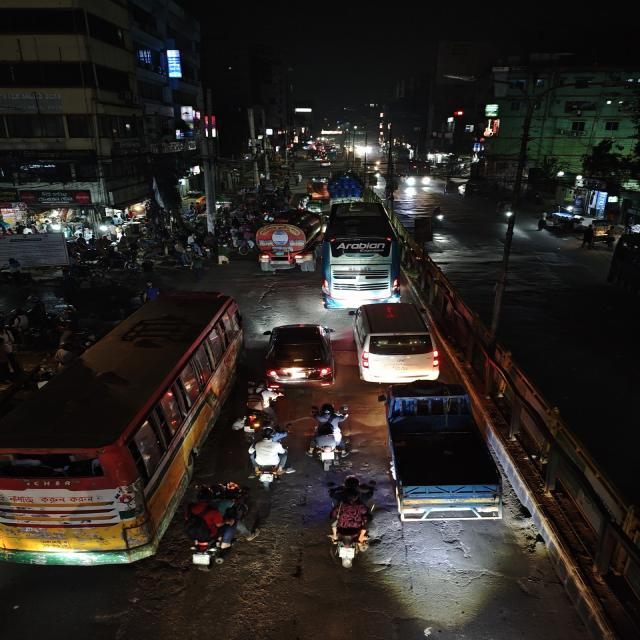bus: (0, 290, 243, 570), (320, 198, 402, 310), (603, 229, 640, 323), (401, 160, 433, 188)
car: (347, 300, 443, 387), (262, 320, 337, 390)
cng: (305, 174, 331, 200)
motorcycle: (180, 481, 249, 577), (322, 475, 377, 573), (306, 402, 351, 470), (245, 428, 290, 488), (234, 388, 274, 437), (250, 379, 282, 407), (429, 205, 448, 227)
pedestrian: (138, 256, 160, 282), (168, 242, 188, 270), (535, 209, 554, 236), (189, 254, 206, 281), (214, 245, 231, 267), (141, 281, 160, 299)
pickup_van: (383, 386, 507, 524)
truck: (253, 209, 321, 273)
